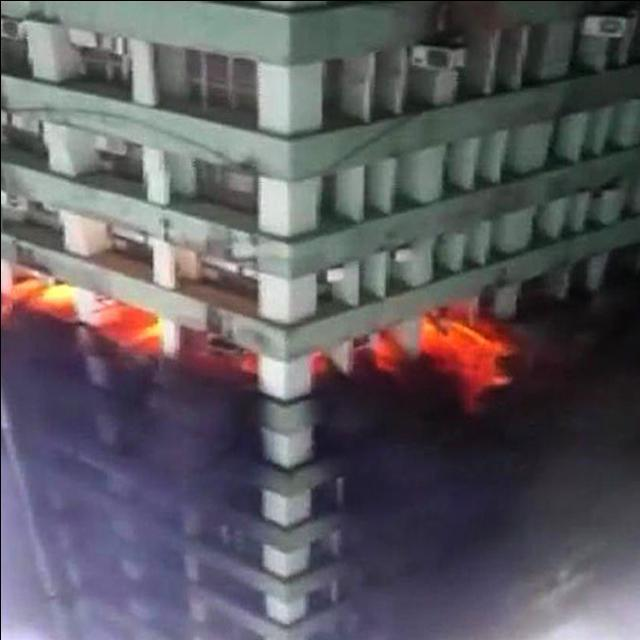Fire: (0, 264, 524, 424)
